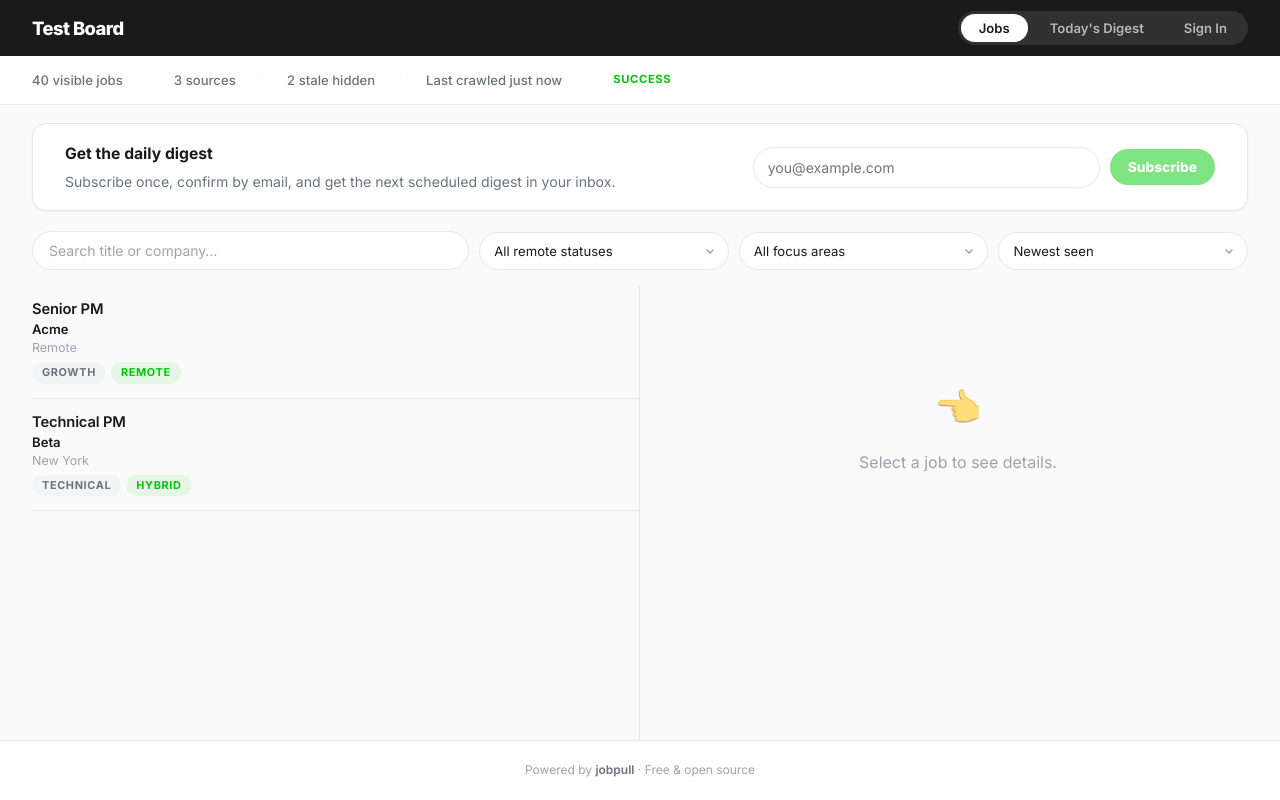
Test: App › selects a job and shows details
Step 1. Click the text "Senior PM" → (68, 310), box [32,300,103,318]
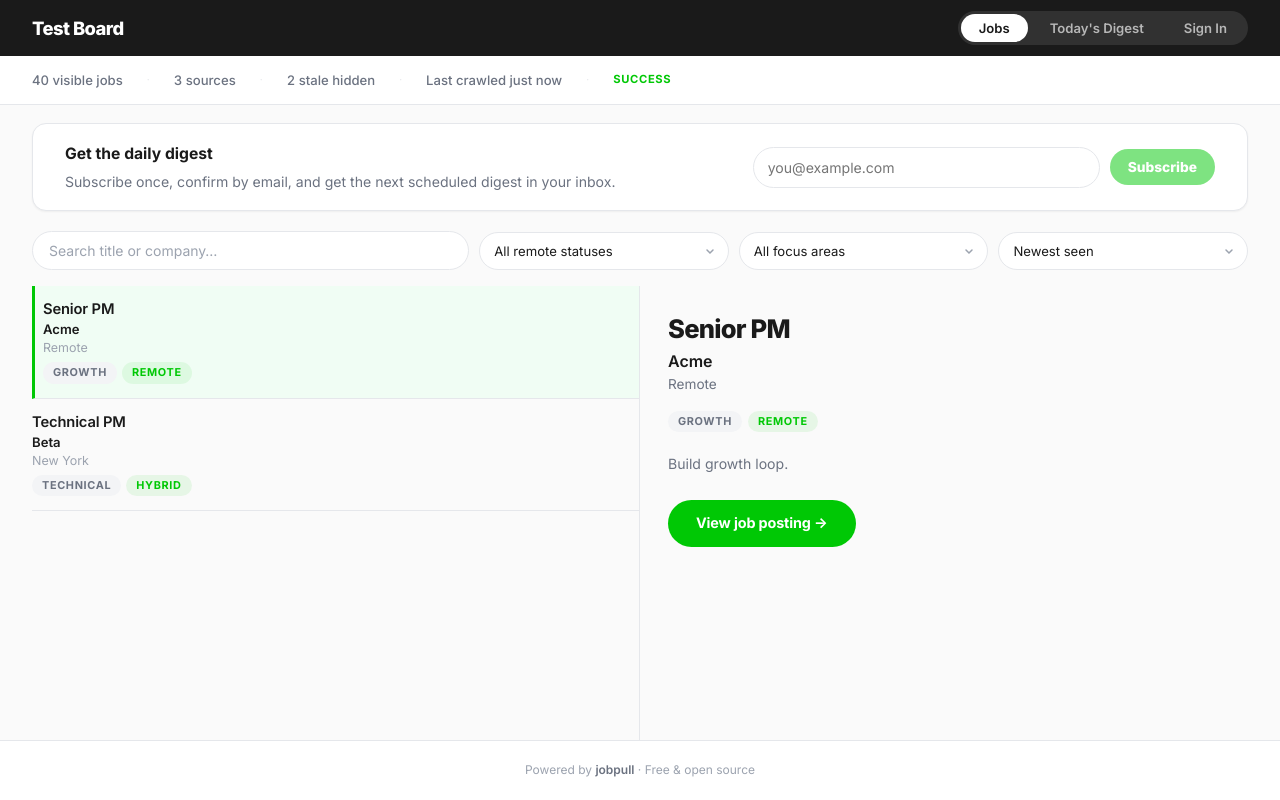
expect the heading "Senior PM" is shown: met, box [668,314,790,344]
expect the text "Build growth loop." is shown: met, box [668,455,788,472]
